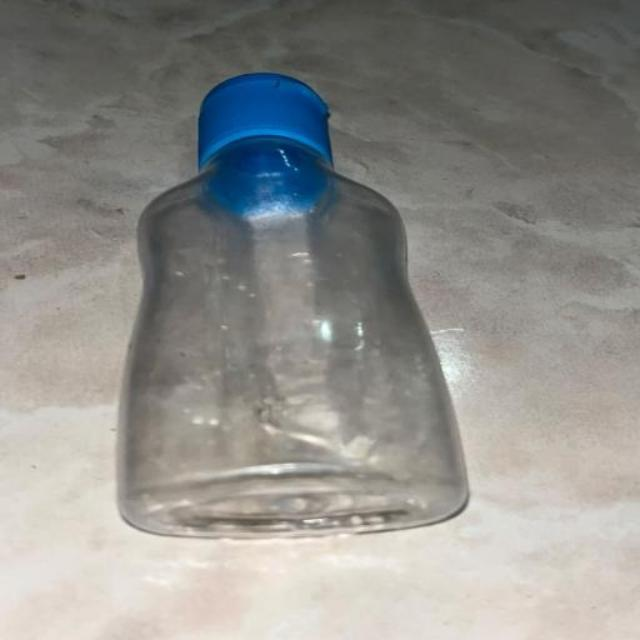PET: (47, 41, 558, 566)
